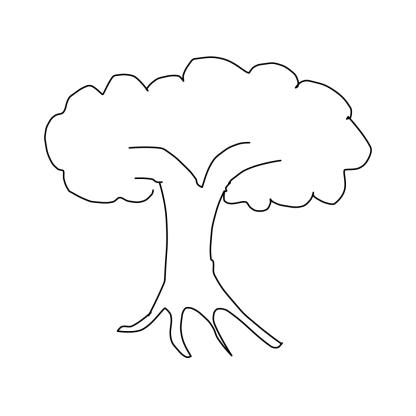branch_line: (123, 133, 290, 190)
crown_cloud: (44, 58, 371, 210)
root_only: (119, 303, 285, 358)
trunk_straight: (158, 196, 228, 293)
